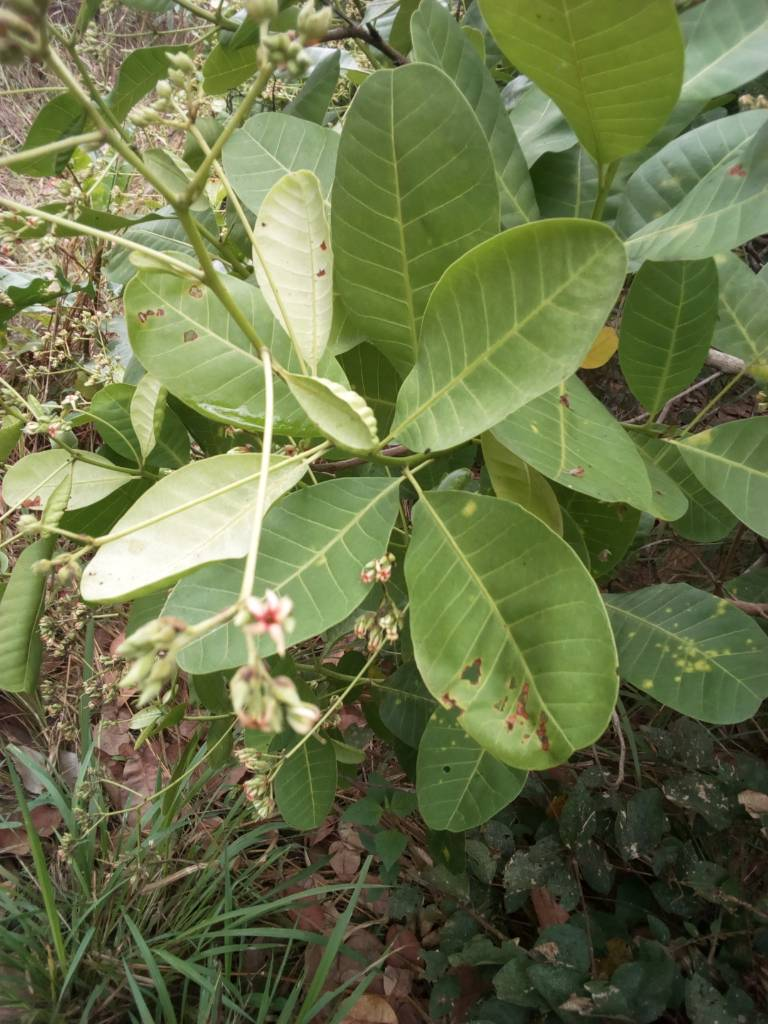Anoplonemis curvipes: (396, 480, 638, 771)
